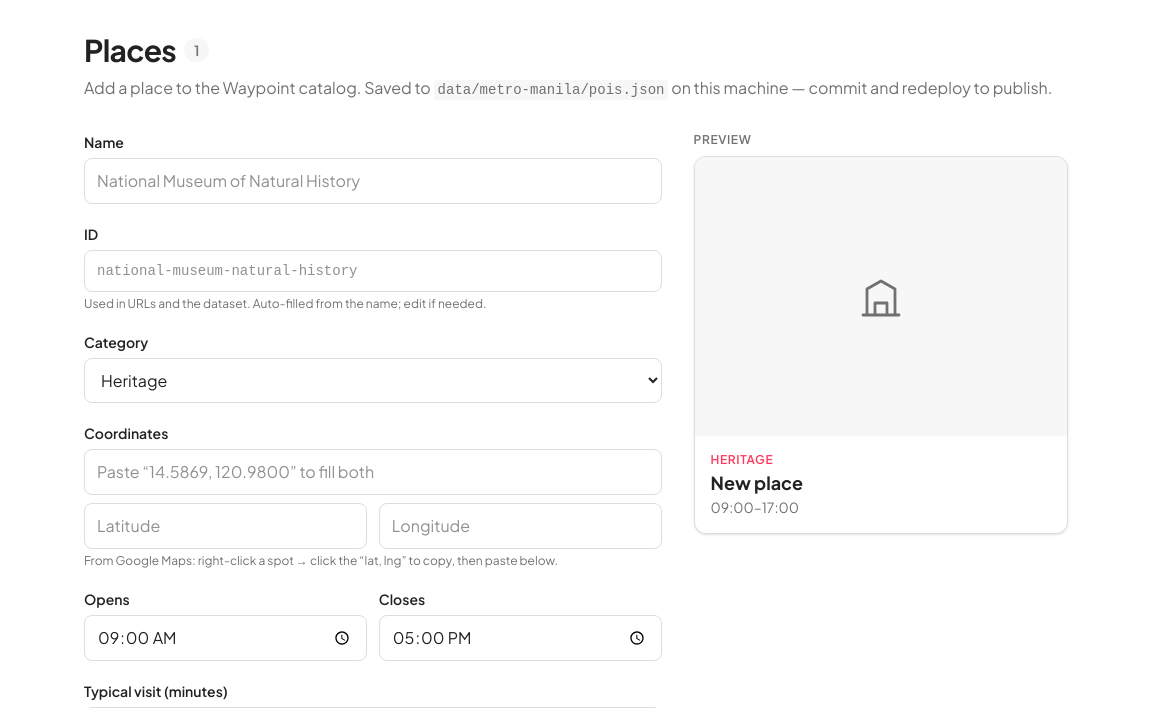
Test: AdminDashboard › fills both coordinate fields from a pasted "lat, lng" string
The image size is (1152, 708).
Step 1. Type "Some text 14.5869, 120.9800 more text" into the field named "Paste coordinates" → (373,472), box [84,449,662,495]
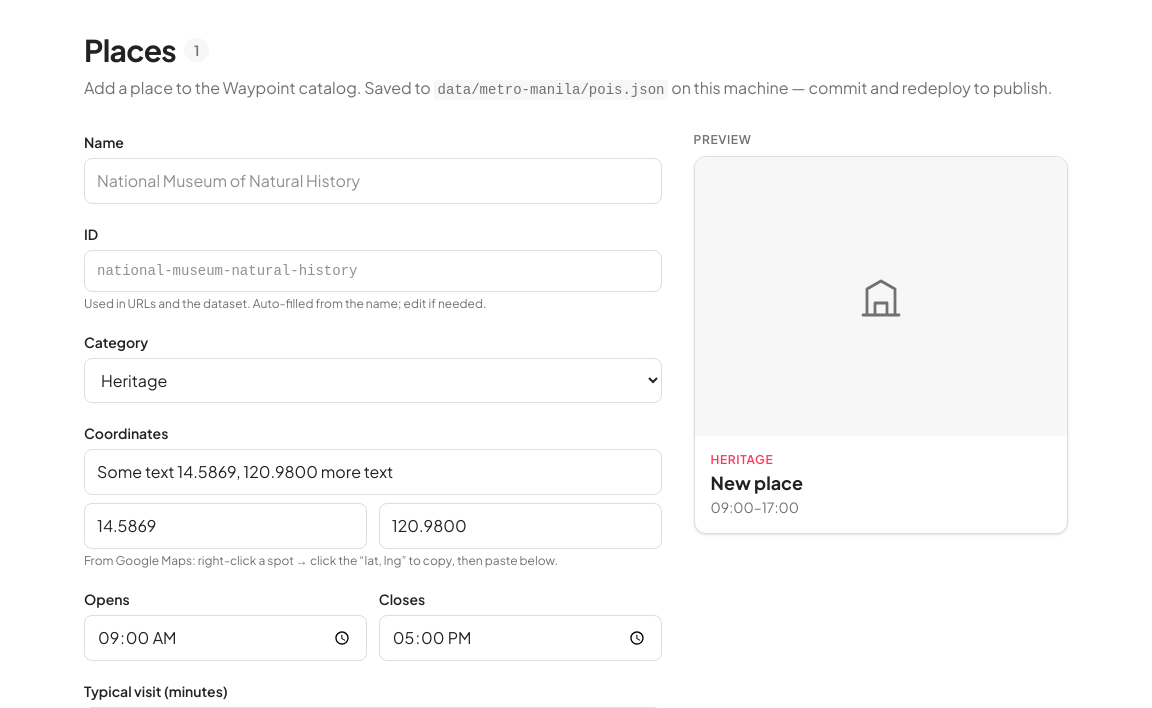
Check: the field named "Latitude" holds "14.5869", box [84,503,367,549]
Check: the field named "Longitude" holds "120.9800", box [379,503,662,549]
